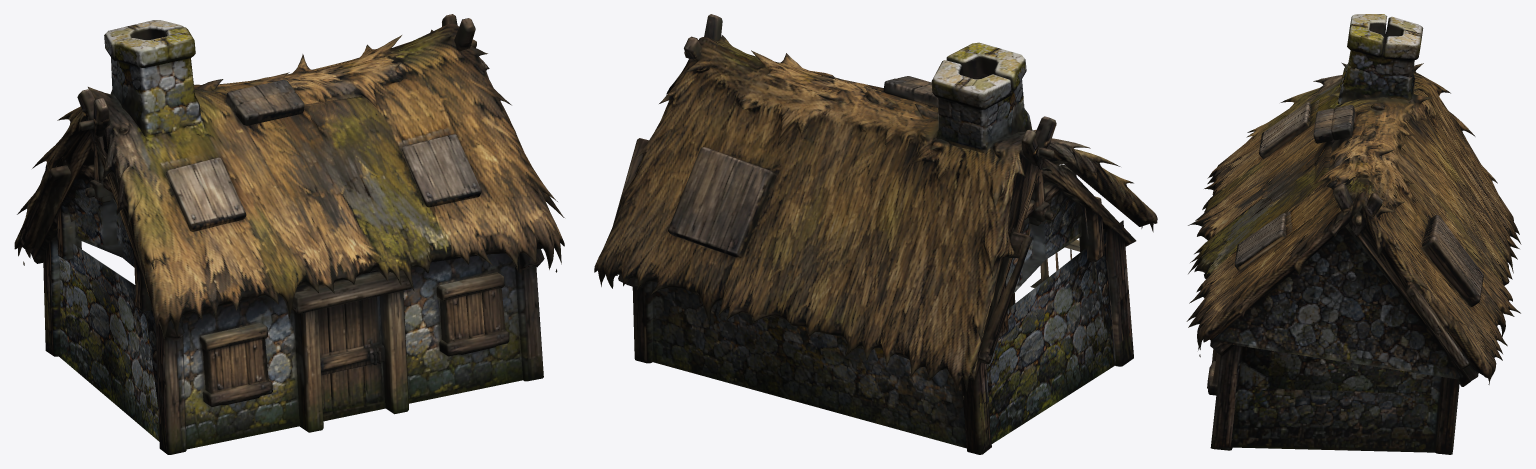
Rendered from act1_kit_v1_drowned_cottage.glb.
The picture shows the model from 3 angles, left to right: view 1: azimuth 30°, elevation 25°; view 2: azimuth 150°, elevation 25°; view 3: azimuth 270°, elevation 25°; orthographic projection. The views are drawn at different scales.
Parts seen in each view (by area): view 1: act1_kit_v1_drowned_cottage; view 2: act1_kit_v1_drowned_cottage; view 3: act1_kit_v1_drowned_cottage.
Boxes of the visible parts, x1=… form: act1_kit_v1_drowned_cottage: x1=14, y1=14, x2=564, y2=454; act1_kit_v1_drowned_cottage: x1=594, y1=14, x2=1157, y2=454; act1_kit_v1_drowned_cottage: x1=1186, y1=14, x2=1521, y2=454.
Size of the model in its own units: 1 by 0.7991 by 0.8062.
1 material, 1 textured.
